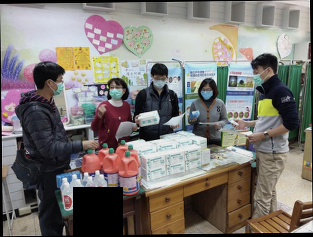with_mask: (50, 76, 65, 97), (108, 83, 124, 100), (251, 69, 265, 87), (152, 76, 168, 91), (199, 87, 214, 101)
